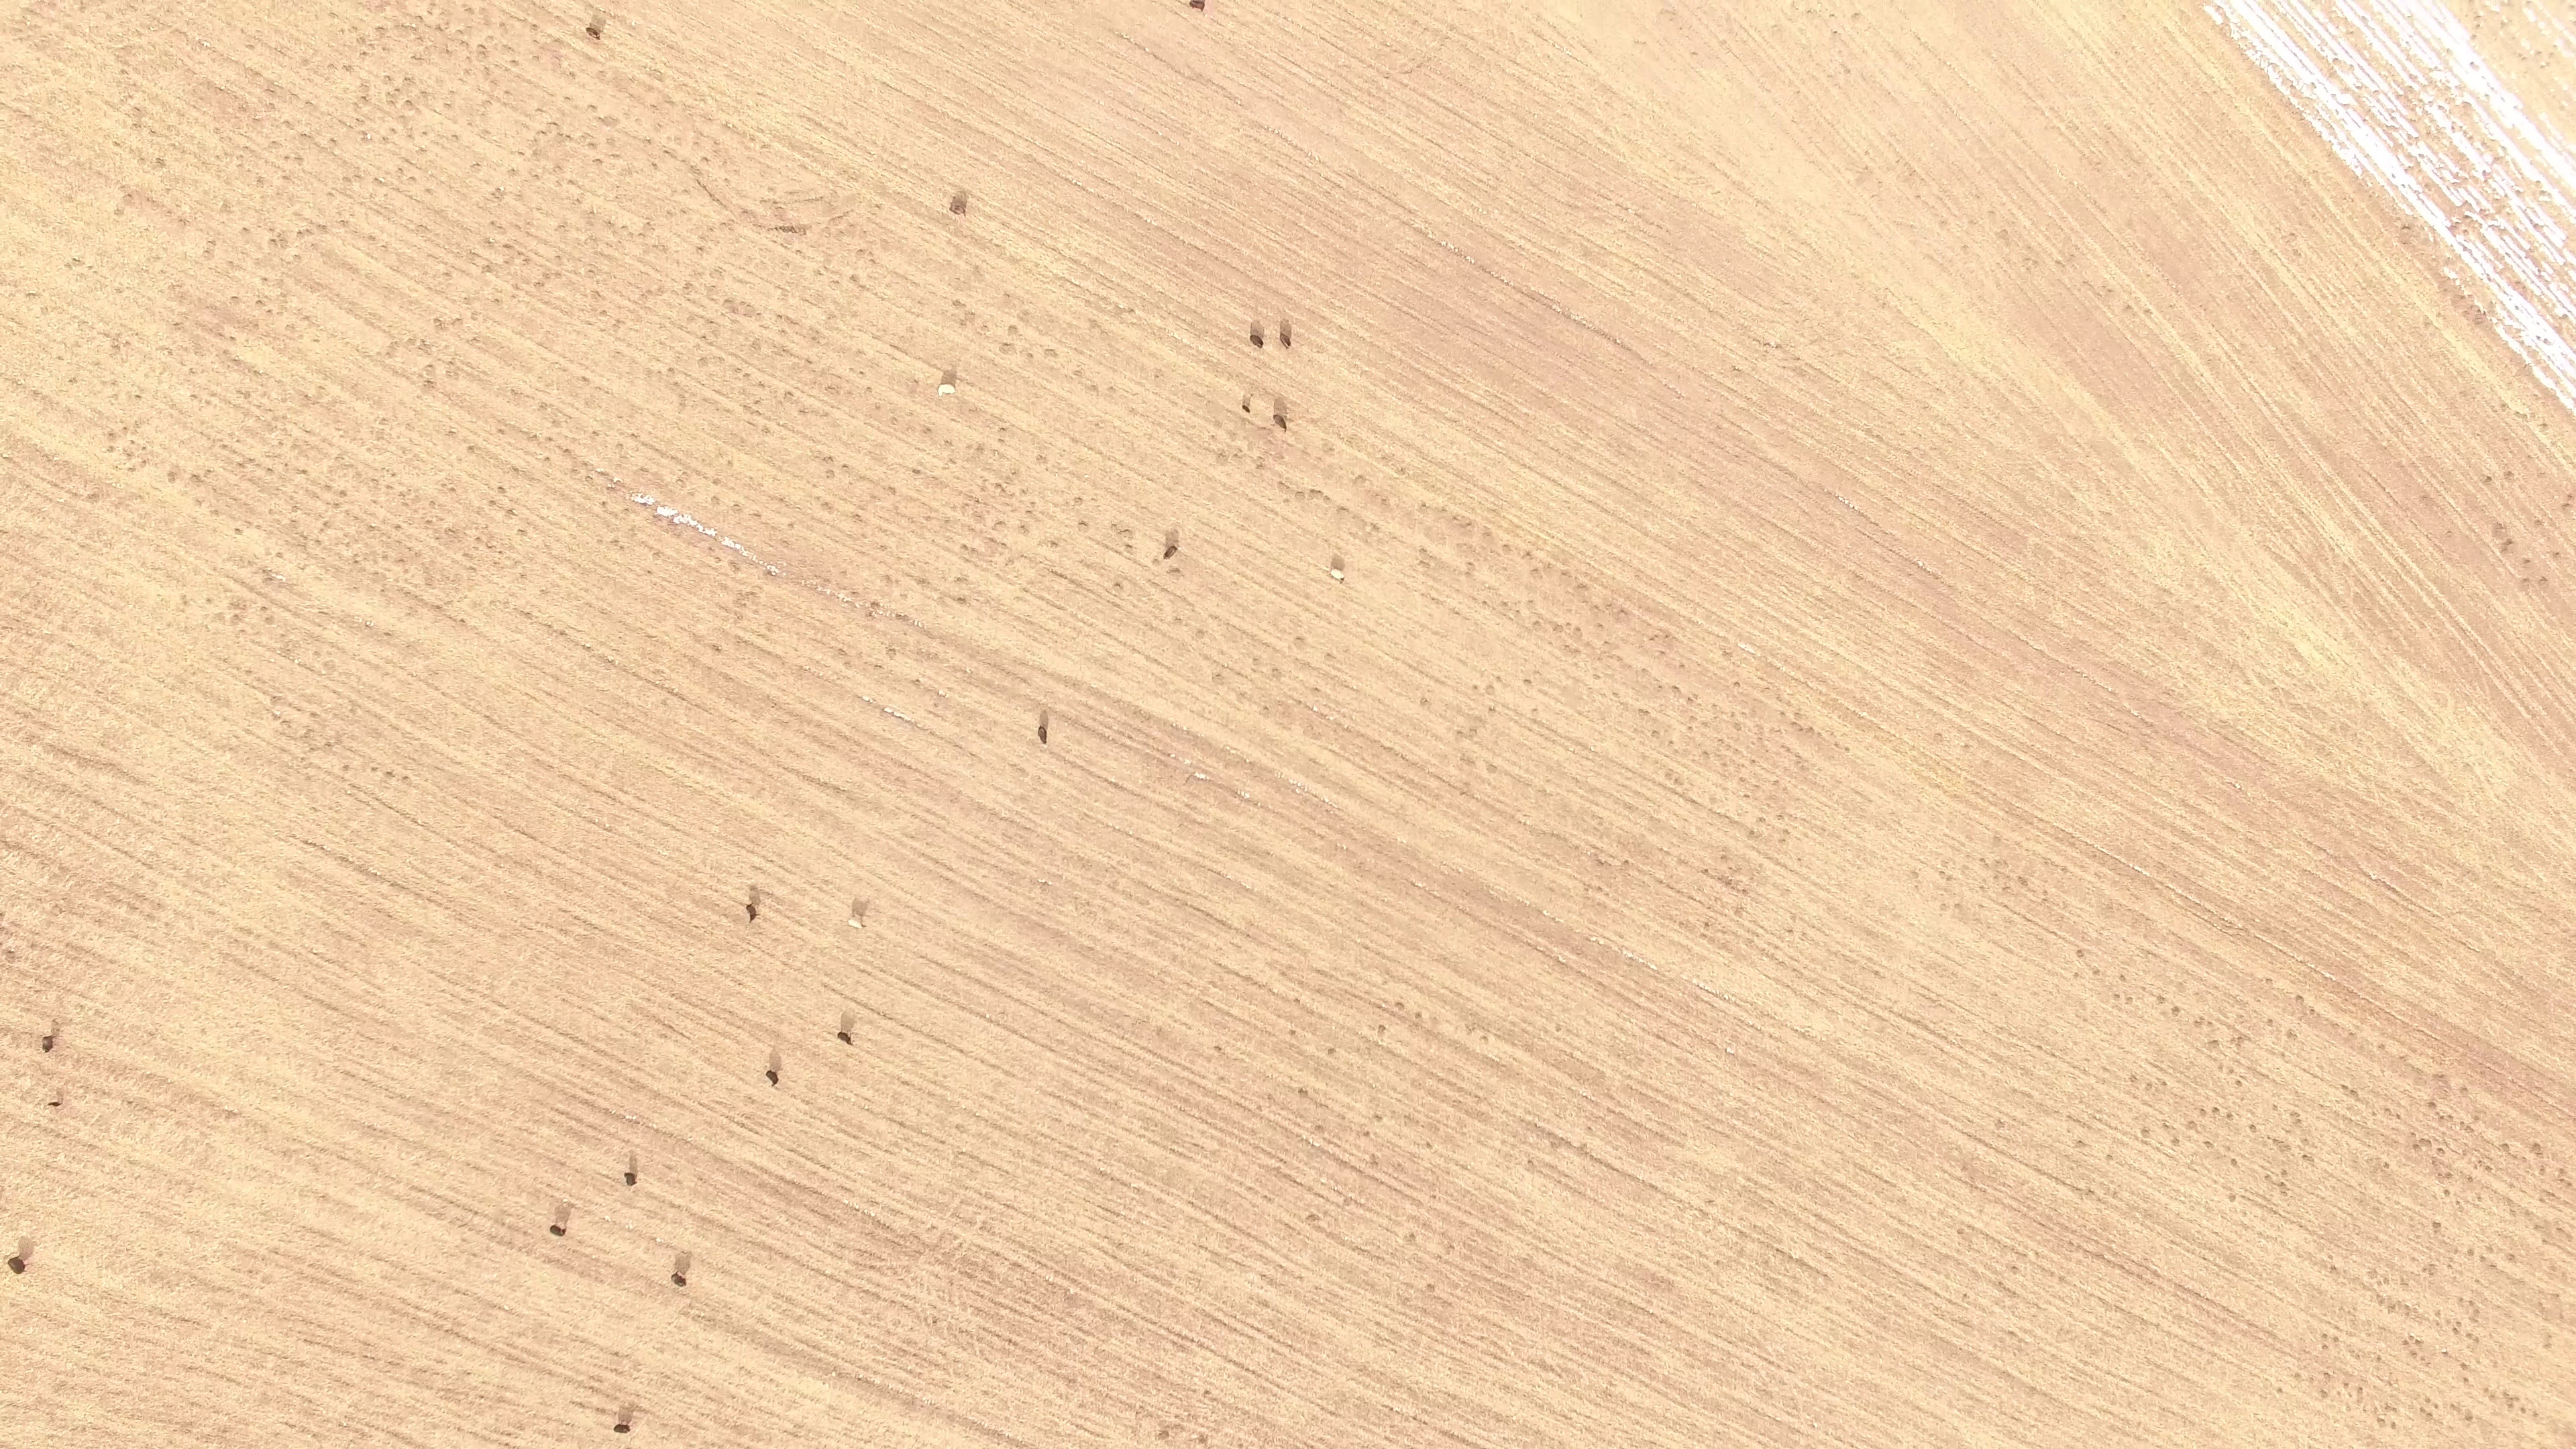sheep: (5, 1254, 30, 1277), (667, 1269, 693, 1290), (39, 1032, 58, 1056), (1034, 722, 1053, 747), (763, 1067, 784, 1088), (1245, 330, 1267, 352), (547, 1221, 569, 1240), (743, 901, 763, 924), (945, 201, 969, 219), (934, 382, 960, 398), (621, 1168, 641, 1189), (835, 1028, 857, 1048), (1326, 563, 1347, 584), (1160, 543, 1181, 562), (611, 1420, 635, 1436), (1270, 412, 1290, 432), (584, 25, 605, 42), (1277, 331, 1295, 350), (845, 914, 867, 931), (1186, 1, 1208, 13), (1239, 399, 1253, 416), (46, 1099, 63, 1110)
unknown: (849, 899, 871, 920), (554, 1204, 574, 1225), (654, 504, 678, 519), (1155, 1427, 1172, 1442), (780, 223, 797, 235), (2429, 1219, 2444, 1231), (2529, 1140, 2542, 1154), (747, 882, 760, 895), (634, 494, 648, 506), (2228, 1156, 2240, 1168), (2426, 1099, 2438, 1110), (1325, 1045, 1338, 1057), (2171, 1004, 2183, 1015), (2502, 536, 2515, 549), (1195, 1435, 1210, 1446), (464, 443, 477, 453), (2388, 1419, 2399, 1431), (2462, 1413, 2475, 1424), (2412, 1337, 2423, 1348), (2226, 1192, 2239, 1203), (2410, 1141, 2422, 1152), (2169, 1136, 2182, 1146), (1296, 1085, 1307, 1097), (1412, 1010, 1424, 1022), (2074, 947, 2086, 957), (1701, 919, 1712, 930), (368, 764, 380, 774), (704, 527, 716, 537), (2455, 292, 2467, 303), (2446, 270, 2457, 281), (2447, 222, 2460, 233), (2459, 212, 2472, 222), (2461, 99, 2473, 110), (598, 1405, 608, 1416), (2505, 1401, 2516, 1411), (1201, 1387, 1212, 1397), (2355, 1384, 2365, 1394), (2459, 1361, 2469, 1371), (2400, 1338, 2411, 1348), (1005, 1336, 1015, 1346), (2330, 1334, 2341, 1345), (1265, 1332, 1275, 1342), (2319, 1331, 2330, 1341), (2450, 1325, 2461, 1336), (1424, 1281, 1434, 1291), (2328, 1263, 2339, 1273), (2116, 1262, 2127, 1272), (1307, 1211, 1318, 1222), (821, 1211, 832, 1222), (771, 1186, 782, 1196), (2276, 1179, 2288, 1190), (2279, 1167, 2290, 1178), (1369, 1158, 1379, 1168), (1339, 1158, 1350, 1168), (2417, 1136, 2427, 1146), (1362, 1129, 1373, 1139), (2247, 1122, 2257, 1132), (2224, 1110, 2235, 1121), (225, 1108, 236, 1118), (54, 1088, 64, 1098), (2341, 1083, 2351, 1093), (2209, 1037, 2220, 1047), (2284, 1030, 2294, 1040), (1287, 1028, 1299, 1038), (2265, 1016, 2275, 1026), (2293, 992, 2304, 1003), (2112, 991, 2123, 1002), (1725, 877, 1735, 888), (301, 837, 311, 847), (1746, 828, 1757, 838), (1197, 771, 1207, 782), (385, 769, 396, 780), (556, 628, 567, 638), (432, 602, 443, 612), (867, 599, 878, 610), (954, 594, 965, 604), (918, 576, 929, 587), (764, 568, 775, 578), (1171, 566, 1183, 576), (2521, 556, 2532, 566), (1523, 549, 1534, 559), (733, 541, 743, 551), (1048, 538, 1058, 548), (671, 515, 681, 525), (2561, 500, 2572, 511), (488, 497, 498, 508), (646, 495, 657, 505), (1307, 486, 1318, 496), (2482, 476, 2492, 486), (195, 476, 205, 486), (598, 469, 608, 479), (2504, 468, 2515, 479), (166, 468, 178, 480), (299, 467, 310, 477), (431, 315, 441, 325), (2559, 311, 2571, 323), (722, 296, 732, 306), (2512, 278, 2522, 288), (2401, 237, 2412, 248), (2436, 223, 2447, 234), (2404, 222, 2415, 233), (319, 222, 329, 233), (2530, 221, 2541, 231), (687, 518, 700, 528), (2418, 1405, 2428, 1415), (2390, 1405, 2400, 1415), (2292, 1371, 2302, 1381), (2408, 1348, 2418, 1358), (1209, 1314, 1219, 1324), (866, 1263, 877, 1273), (1407, 1231, 1417, 1241), (1113, 1210, 1123, 1220), (2441, 1187, 2452, 1197), (1525, 1157, 1535, 1167), (2141, 1126, 2151, 1136), (1314, 1122, 1324, 1132), (2211, 1105, 2221, 1115), (390, 1043, 400, 1053), (2091, 967, 2101, 977), (1739, 886, 1749, 896), (1595, 857, 1605, 867), (341, 762, 352, 772), (1806, 724, 1816, 734), (1470, 682, 1481, 692), (382, 629, 392, 639), (1112, 580, 1123, 590), (265, 574, 276, 584), (1078, 518, 1088, 528), (2565, 492, 2575, 503), (90, 490, 100, 501), (909, 466, 919, 476), (3, 453, 13, 464), (2473, 317, 2483, 328), (2537, 187, 2547, 197), (2513, 187, 2523, 197), (1424, 1140, 1434, 1150), (1701, 866, 1711, 876), (1719, 852, 1729, 862), (2519, 282, 2529, 292), (1, 910, 5, 920)
